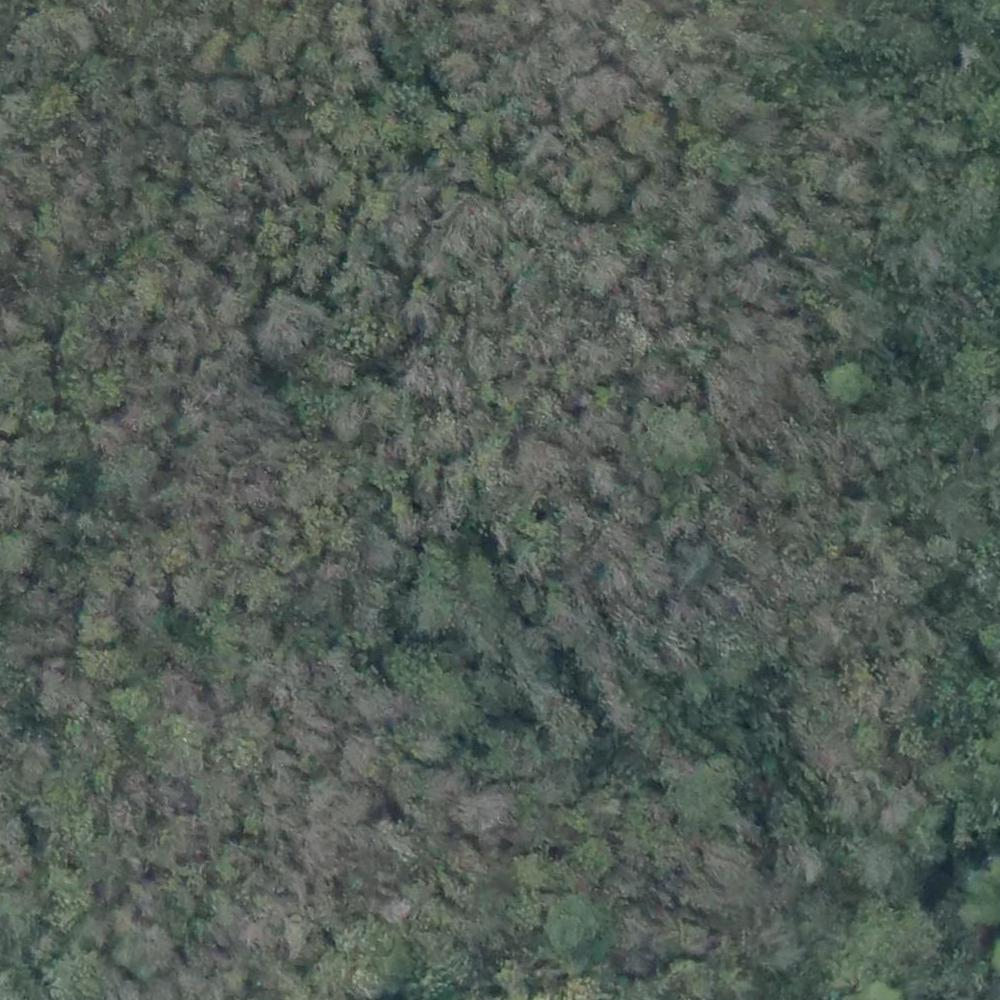tree: (635, 405, 723, 487), (246, 284, 318, 363), (562, 144, 642, 207), (564, 74, 649, 126), (400, 340, 471, 400), (669, 763, 732, 826), (620, 98, 687, 157), (859, 834, 920, 898), (264, 295, 325, 359), (573, 241, 638, 301), (697, 85, 763, 139), (451, 193, 509, 254), (546, 891, 599, 955), (301, 499, 354, 557), (404, 719, 461, 772), (47, 946, 102, 1000), (337, 736, 391, 789), (552, 19, 605, 70), (106, 448, 162, 495), (696, 223, 754, 268), (1, 526, 43, 588), (170, 251, 215, 308), (813, 359, 871, 403), (79, 650, 136, 693), (152, 319, 204, 366), (710, 135, 762, 179), (170, 81, 218, 128), (334, 45, 382, 92), (840, 159, 886, 207), (174, 564, 224, 608), (849, 720, 893, 769), (321, 396, 368, 441), (433, 46, 486, 85), (123, 263, 169, 307), (191, 125, 232, 171), (79, 615, 128, 653), (232, 33, 274, 76), (515, 845, 552, 887), (573, 844, 613, 882), (218, 75, 255, 107), (114, 682, 148, 713)
